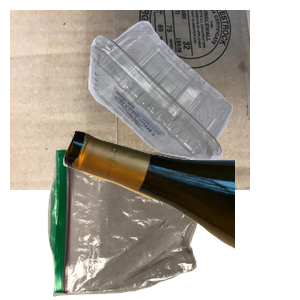cardboard: (10, 10, 250, 190)
glass: (60, 128, 300, 300)
plastic: (86, 18, 300, 171)
trash: (45, 144, 235, 300)
